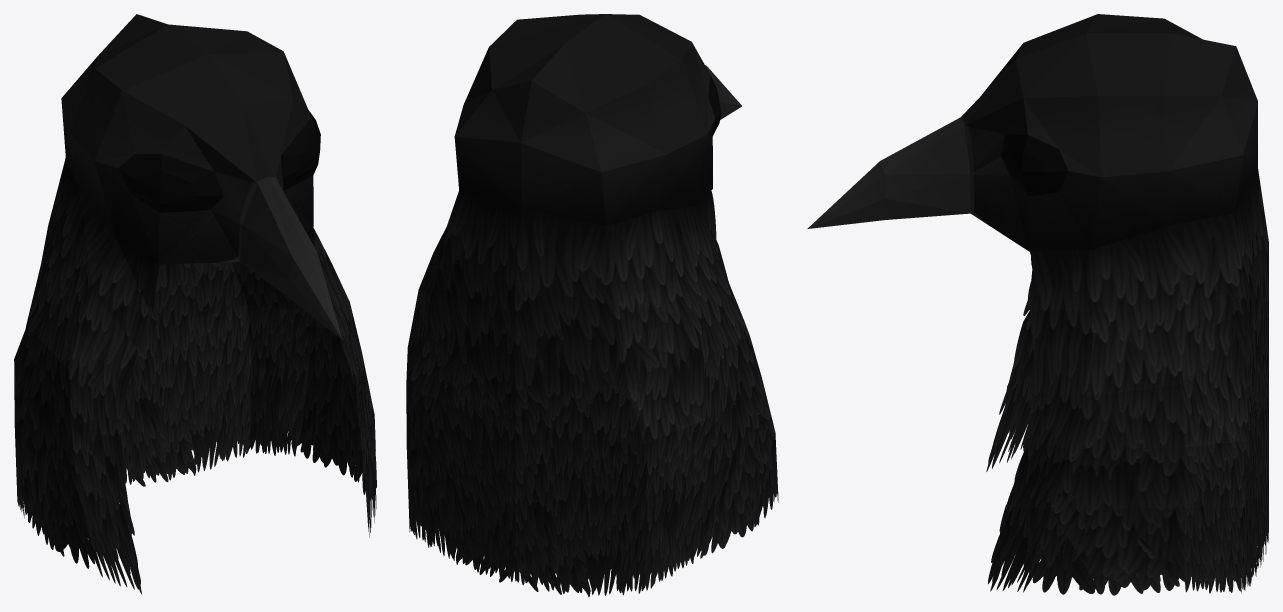
File: CrowHide.FBX
3 views of the same model, side by side, from view 1: azimuth 30°, elevation 25°; view 2: azimuth 150°, elevation 25°; view 3: azimuth 270°, elevation 25° (orthographic). The views are drawn at different scales.
Parts seen in each view (by area): view 1: CrowHide; view 2: CrowHide; view 3: CrowHide.
Part boxes in pixels (box(x1,y1,x2,y2)): CrowHide: box(14, 14, 376, 594); CrowHide: box(406, 14, 778, 596); CrowHide: box(807, 14, 1268, 595).
Size of the model in its own units: 70.9 by 113 by 90.53.
Materials: 1 (1 with a texture image).
